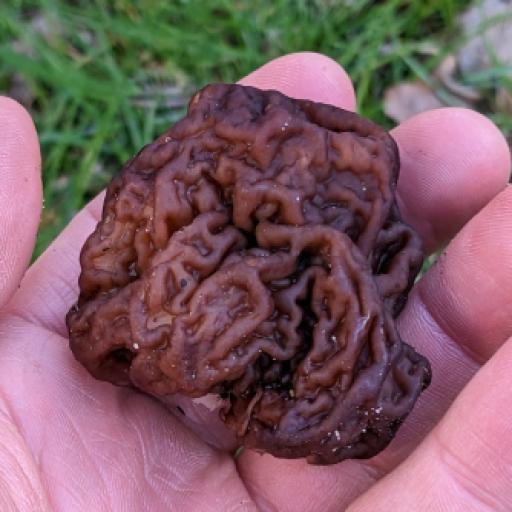mushroom: (79, 73, 431, 464)
